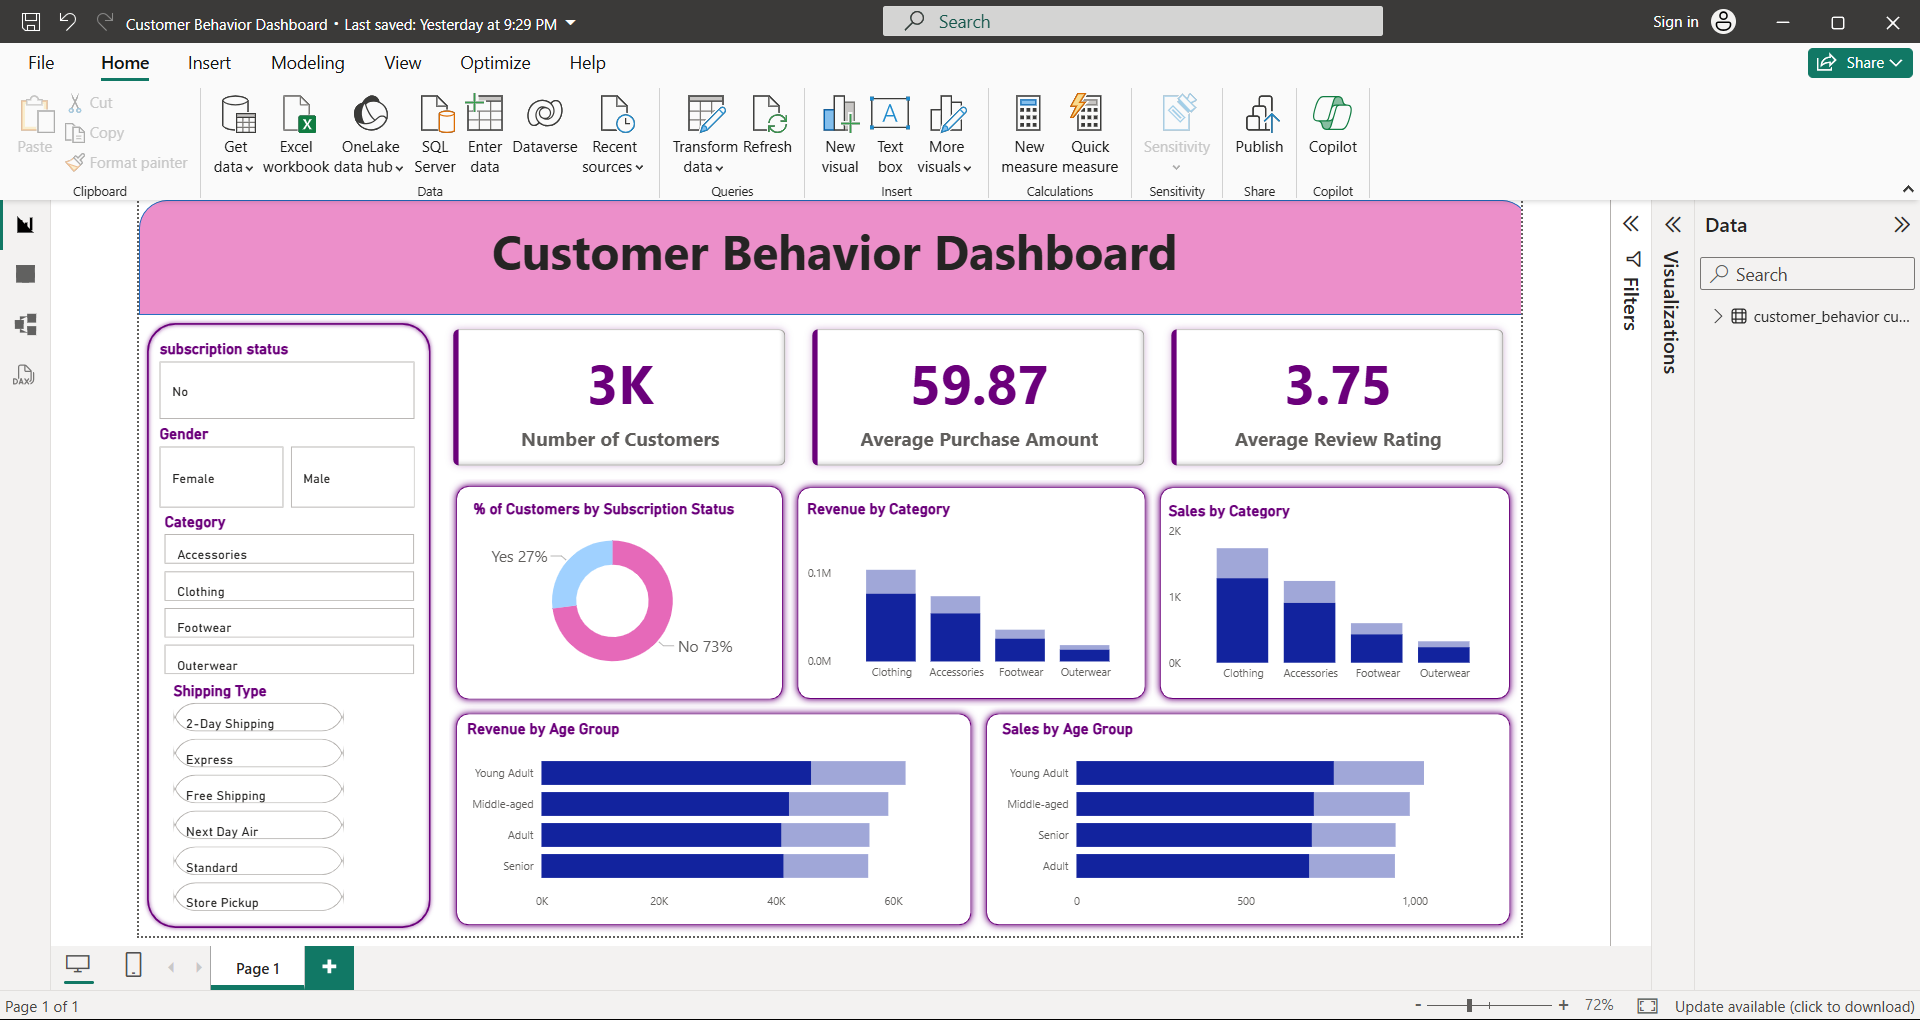

What the dashboard file says about the page in this screenshot:
{"tool":"powerbi","page":{"name":"Page 1","canvas":[1540,820],"ordinal":0},"visuals":[{"type":"cardVisual","fields":{"Data":["customer_behavior customer.Number of Customers","customer_behavior customer.Average Purchase Amount","customer_behavior customer.Average Review Rating"]},"box":[334,128,1202,184],"z":0},{"type":"shape","box":[0,0,1550,128],"z":1000},{"type":"textbox","box":[0,16,1550,112],"z":2000},{"type":"shape","box":[346,310,380,254],"z":3000},{"type":"donutChart","title":"% of Customers by Subscription Status","fields":{"Y":["CountNonNull(customer_behavior customer.customer_id)"],"Category":["customer_behavior customer.subscription_status"]},"box":[368,334,320,206],"z":4000},{"type":"shape","box":[0,128,334,692],"z":5000},{"type":"advancedSlicerVisual","title":"subscription status","fields":{"Values":["customer_behavior customer.subscription_status"]},"box":[18,156,294,94],"z":6000},{"type":"advancedSlicerVisual","title":"Gender","fields":{"Values":["customer_behavior customer.gender"]},"box":[18,250,294,98],"z":7000},{"type":"advancedSlicerVisual","title":"Category","fields":{"Values":["customer_behavior customer.category"]},"box":[24,348,288,188],"z":8000},{"type":"advancedSlicerVisual","title":"Shipping Type","fields":{"Values":["customer_behavior customer.shipping_type"]},"box":[24,544,200,262],"z":9000},{"type":"shape","box":[936,564,600,252],"z":11000},{"type":"shape","box":[726,312,404,252],"z":12000},{"type":"shape","box":[1130,312,406,252],"z":13000},{"type":"clusteredColumnChart","title":"Revenue by Category","fields":{"Category":["customer_behavior customer.category"],"Y":["Sum(customer_behavior customer.purchase_amount)"]},"box":[740,334,378,210],"z":13004},{"type":"clusteredColumnChart","title":"Sales by Category","fields":{"Category":["customer_behavior customer.category"],"Y":["CountNonNull(customer_behavior customer.purchase_amount)"]},"box":[1142,336,378,210],"z":13005},{"type":"shape","box":[346,564,590,252],"z":13006},{"type":"clusteredBarChart","title":"Revenue by Age Group","fields":{"Y":["Sum(customer_behavior customer.purchase_amount)"],"Category":["customer_behavior customer.age_group"]},"box":[360.7,579.4,559.9,220],"z":13007},{"type":"clusteredBarChart","title":"Sales by Age Group","fields":{"Y":["CountNonNull(customer_behavior customer.customer_id)"],"Category":["customer_behavior customer.age_group"]},"box":[956.8,579.4,559.9,220],"z":13008}]}

Visuals, with their boxes on the page's 1540x820 design canvas (x1, y1, x2, y2). These are canvas units, not pixel positions in the 1920x1020 screenshot, which may show the page scaled, cropped or inside an application window:
cardVisual - customer_behavior customer.Number of Customers x customer_behavior customer.Average Purchase Amount: box=[334, 128, 1536, 312]
shape: box=[0, 0, 1550, 128]
textbox: box=[0, 16, 1550, 128]
shape: box=[346, 310, 726, 564]
"% of Customers by Subscription Status" donutChart: box=[368, 334, 688, 540]
shape: box=[0, 128, 334, 820]
"subscription status" advancedSlicerVisual: box=[18, 156, 312, 250]
"Gender" advancedSlicerVisual: box=[18, 250, 312, 348]
"Category" advancedSlicerVisual: box=[24, 348, 312, 536]
"Shipping Type" advancedSlicerVisual: box=[24, 544, 224, 806]
shape: box=[936, 564, 1536, 816]
shape: box=[726, 312, 1130, 564]
shape: box=[1130, 312, 1536, 564]
"Revenue by Category" clusteredColumnChart: box=[740, 334, 1118, 544]
"Sales by Category" clusteredColumnChart: box=[1142, 336, 1520, 546]
shape: box=[346, 564, 936, 816]
"Revenue by Age Group" clusteredBarChart: box=[361, 579, 921, 799]
"Sales by Age Group" clusteredBarChart: box=[957, 579, 1517, 799]
